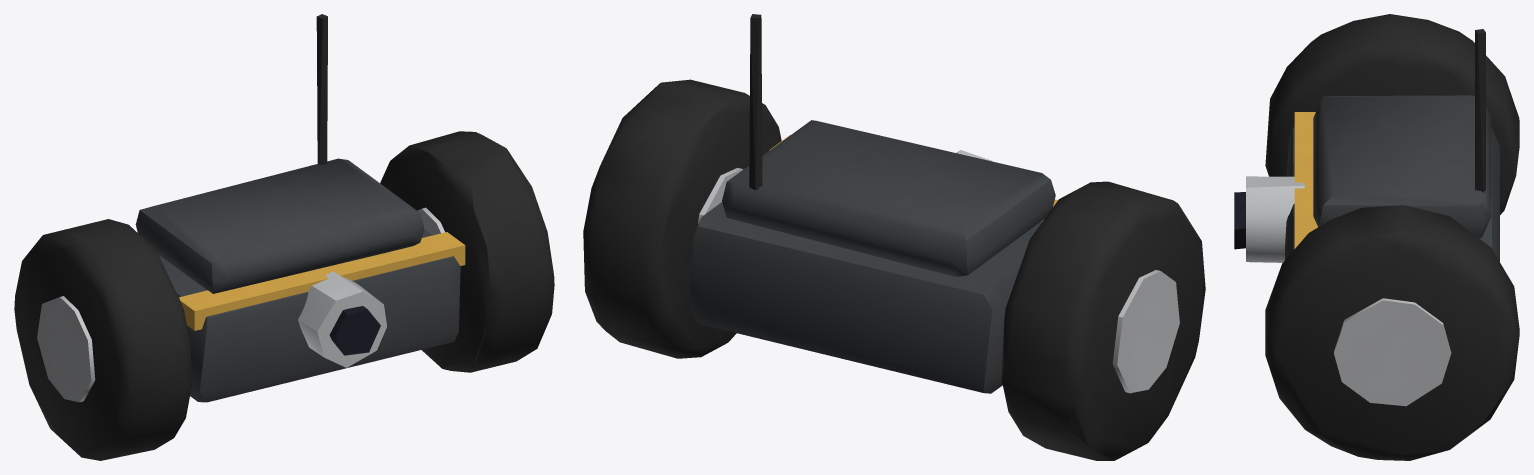
Rendered from SM_ReconDrone_LOD1.fbx.
The picture shows the model from 3 angles, left to right: view 1: azimuth 30°, elevation 25°; view 2: azimuth 150°, elevation 25°; view 3: azimuth 270°, elevation 25°; orthographic projection. The views are drawn at different scales.
Visible parts, largest first — view 1: SM_ReconDrone_LOD1; view 2: SM_ReconDrone_LOD1; view 3: SM_ReconDrone_LOD1.
Boxes of the visible parts, x1,y1,x2,y2 form: SM_ReconDrone_LOD1: (14,14,554,460); SM_ReconDrone_LOD1: (583,14,1205,460); SM_ReconDrone_LOD1: (1234,14,1519,460).
Size of the model in its own units: 0.28 by 0.2048 by 0.1461.
1 material, 1 textured.
